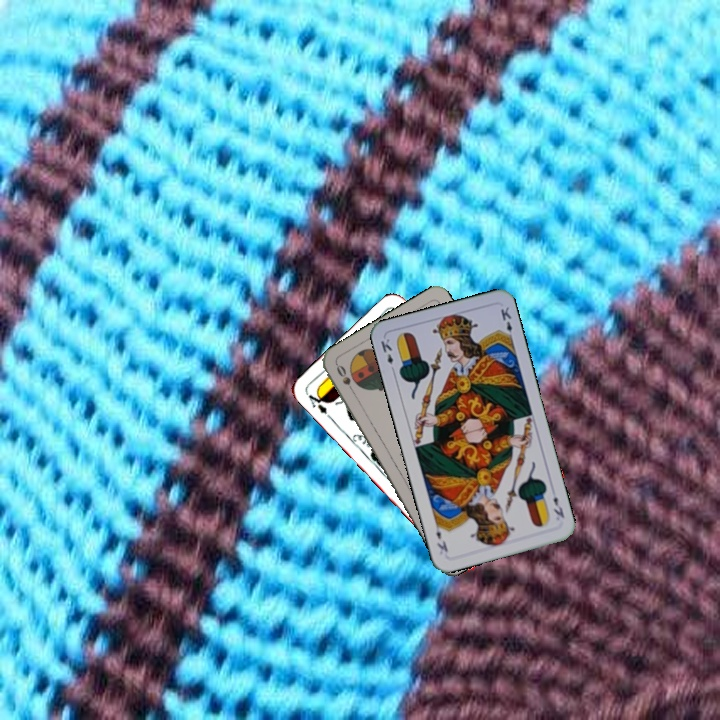EA: (304, 386, 334, 422)
EK: (376, 334, 398, 375), (549, 492, 567, 520)
SO: (332, 361, 358, 398)
